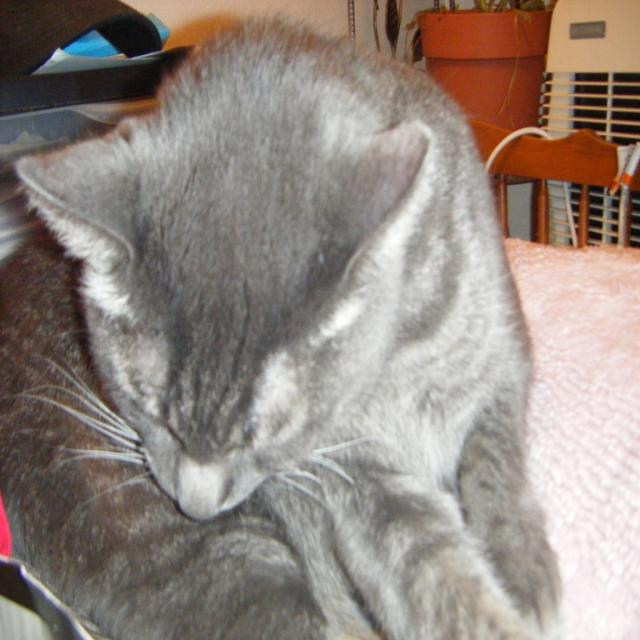Cat: (0, 3, 568, 639)
